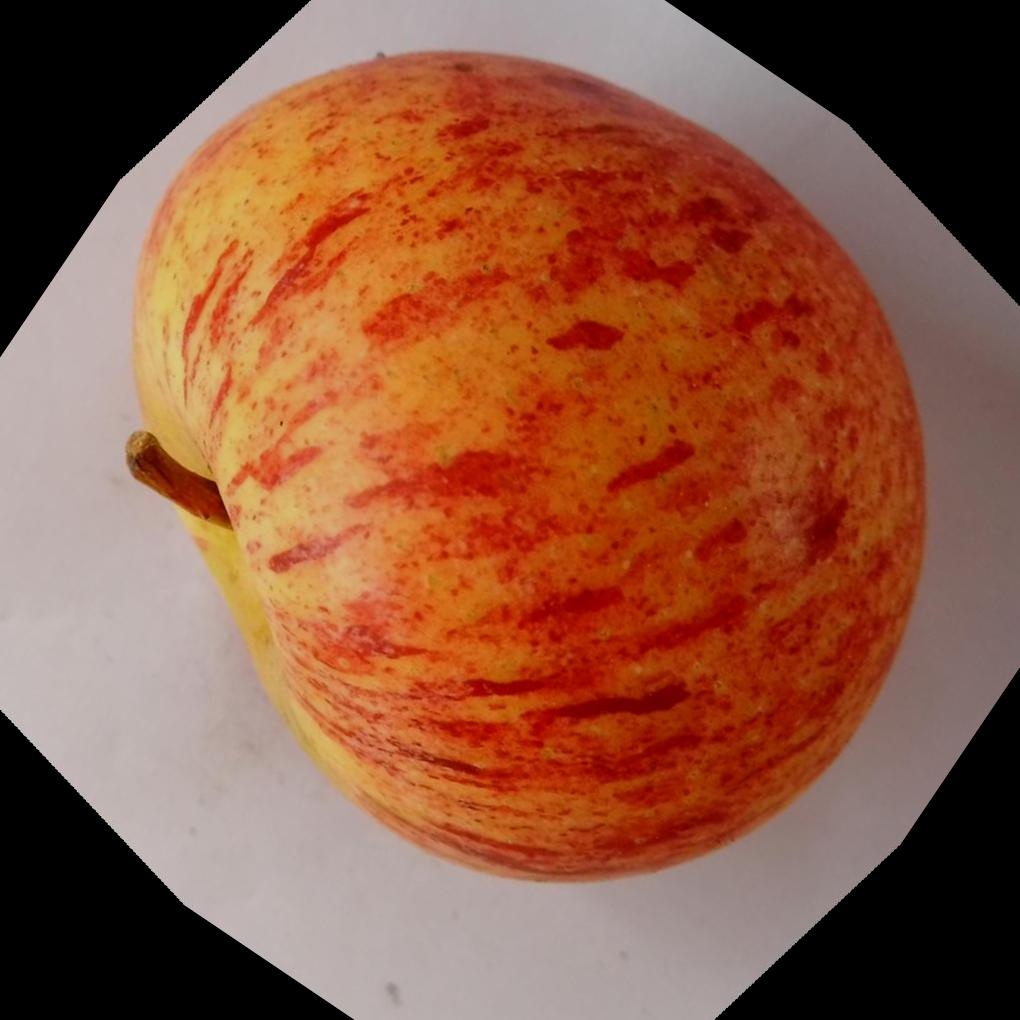FreshGuava: (125, 44, 931, 884)
